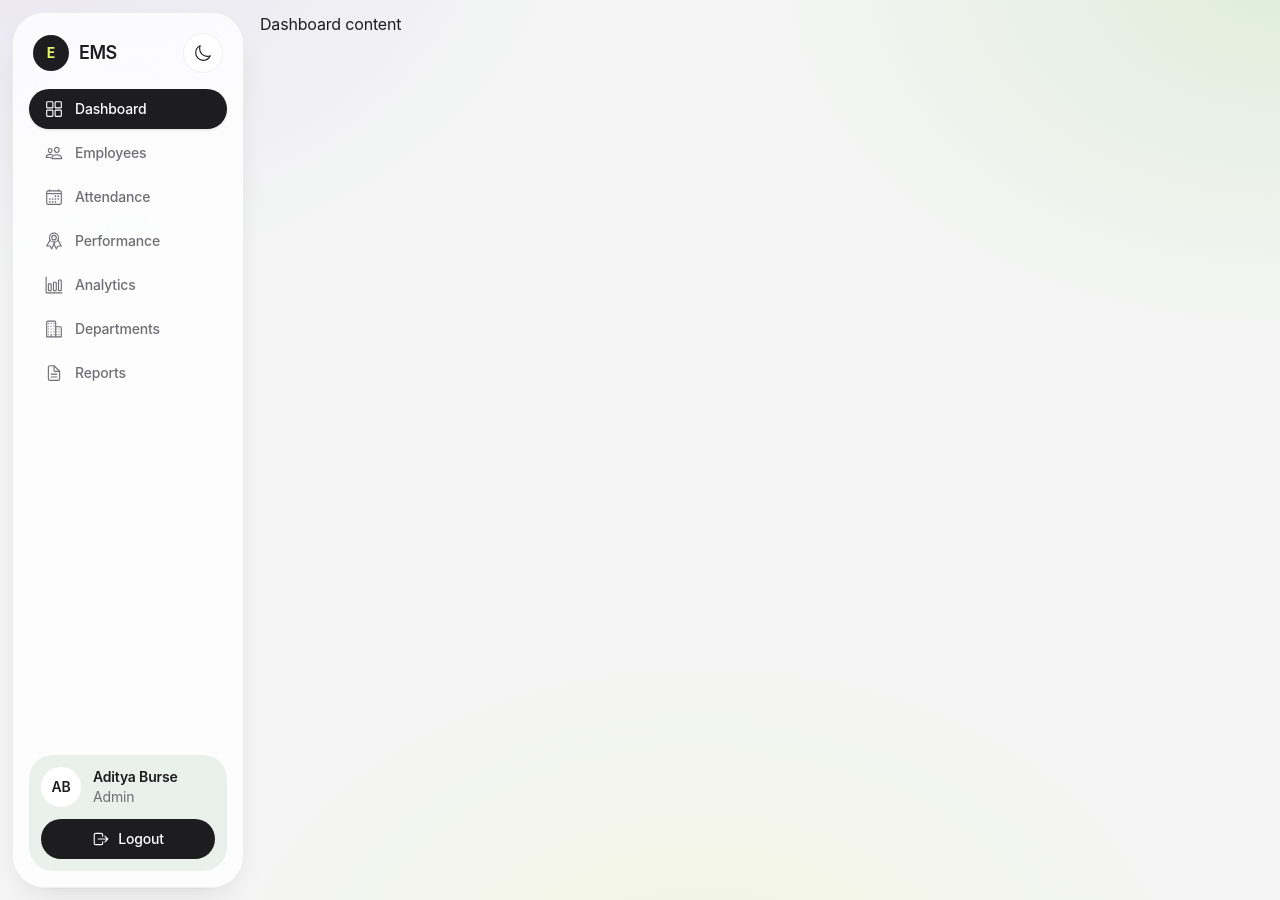
Test: DashboardLayout › closes the drawer after choosing a page
The width and height of the screenshot is (1280, 900).
Earlier steps of the test are not shown.
Click the link "Employees".
click(96, 153)  # box [45, 144, 146, 162]
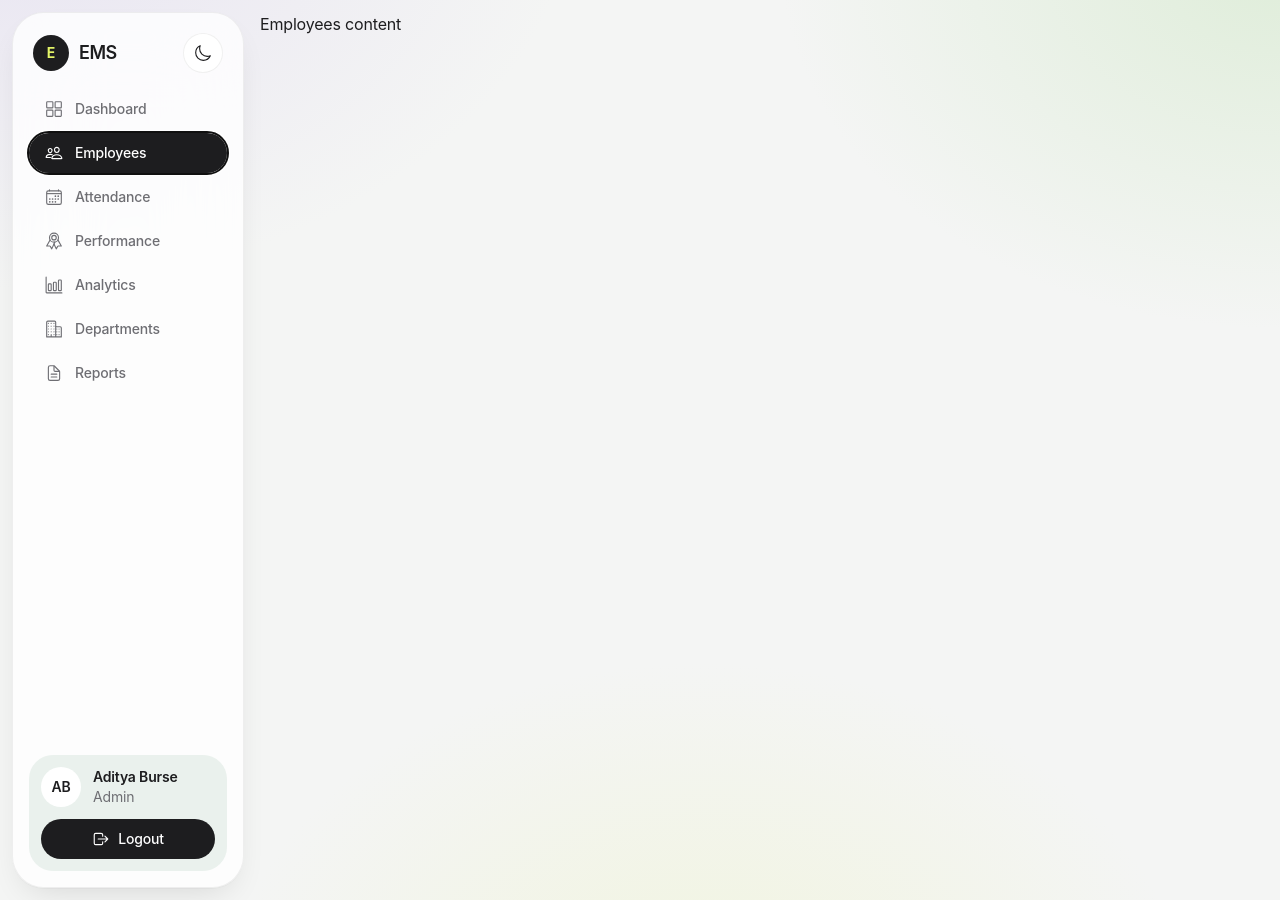
expect the text "Employees content" is shown: met, box [260, 14, 401, 34]
